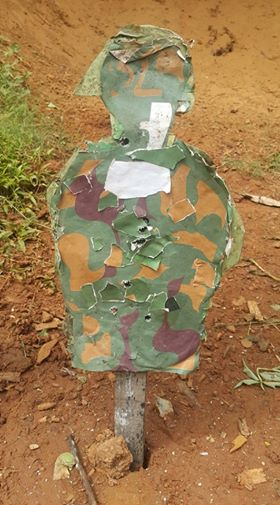Bullet: (124, 280, 133, 290), (110, 307, 120, 316), (120, 138, 130, 147), (138, 227, 148, 234), (145, 315, 151, 323)
